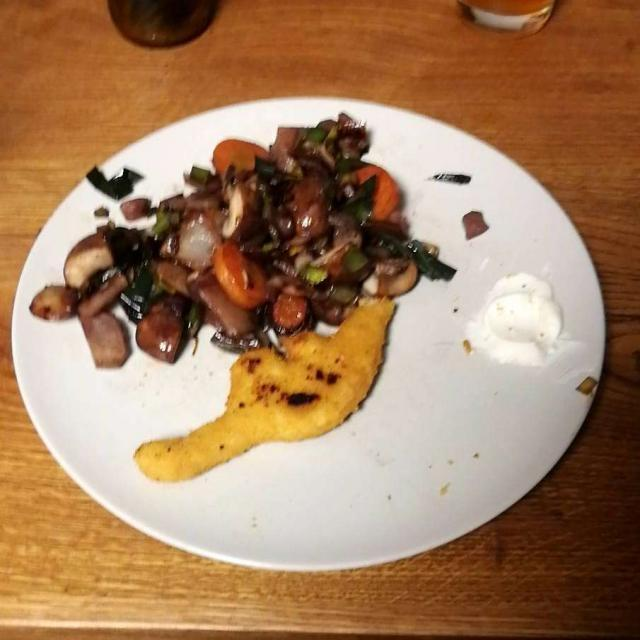mayonnaise: (465, 267, 562, 376)
mixed-vegetables: (31, 117, 430, 389)
